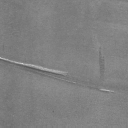finishing roll printing: (0, 57, 69, 78), (99, 88, 115, 94)
